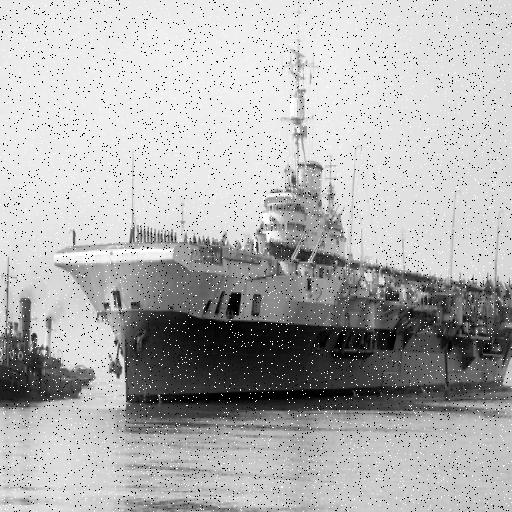Portanaves: (52, 3, 512, 413)
